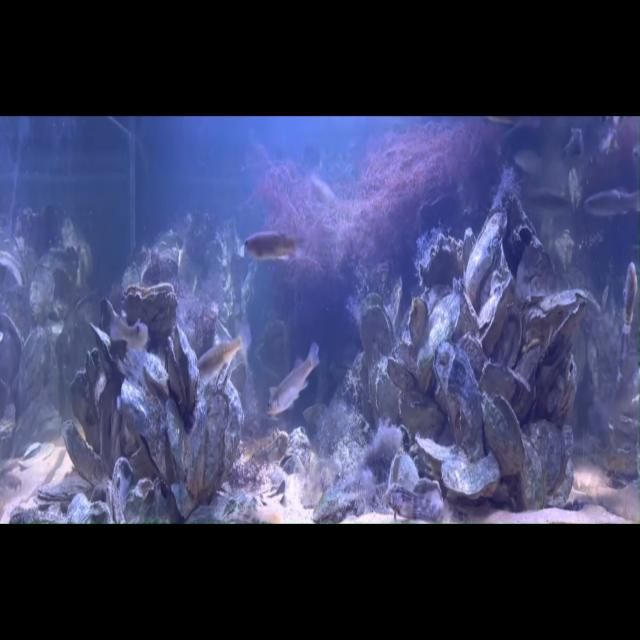Oyster- Indeterminate: (494, 169, 535, 276)
Oyster-Closed: (434, 342, 484, 460), (200, 371, 244, 497), (120, 380, 171, 483), (416, 291, 460, 393), (465, 209, 508, 307), (56, 293, 101, 380), (415, 227, 475, 287), (176, 287, 219, 358), (476, 273, 513, 352), (515, 236, 556, 304), (441, 453, 500, 500), (528, 420, 564, 492), (69, 371, 100, 453), (18, 327, 48, 411), (121, 349, 169, 398), (399, 391, 446, 438), (479, 360, 530, 403), (491, 302, 522, 369), (520, 436, 545, 509), (91, 326, 126, 376), (38, 471, 94, 502), (166, 398, 186, 480), (451, 280, 478, 340), (388, 342, 419, 391), (111, 458, 134, 522), (459, 331, 486, 380), (522, 304, 552, 344), (515, 340, 541, 382)
Oyster-Open: (482, 393, 525, 476), (539, 289, 588, 357), (168, 324, 199, 427), (62, 420, 104, 486), (124, 478, 182, 524), (124, 282, 178, 329), (410, 433, 464, 480), (360, 293, 392, 362), (140, 249, 178, 287), (389, 451, 420, 491), (409, 298, 429, 347), (0, 251, 22, 287), (230, 358, 246, 393)
